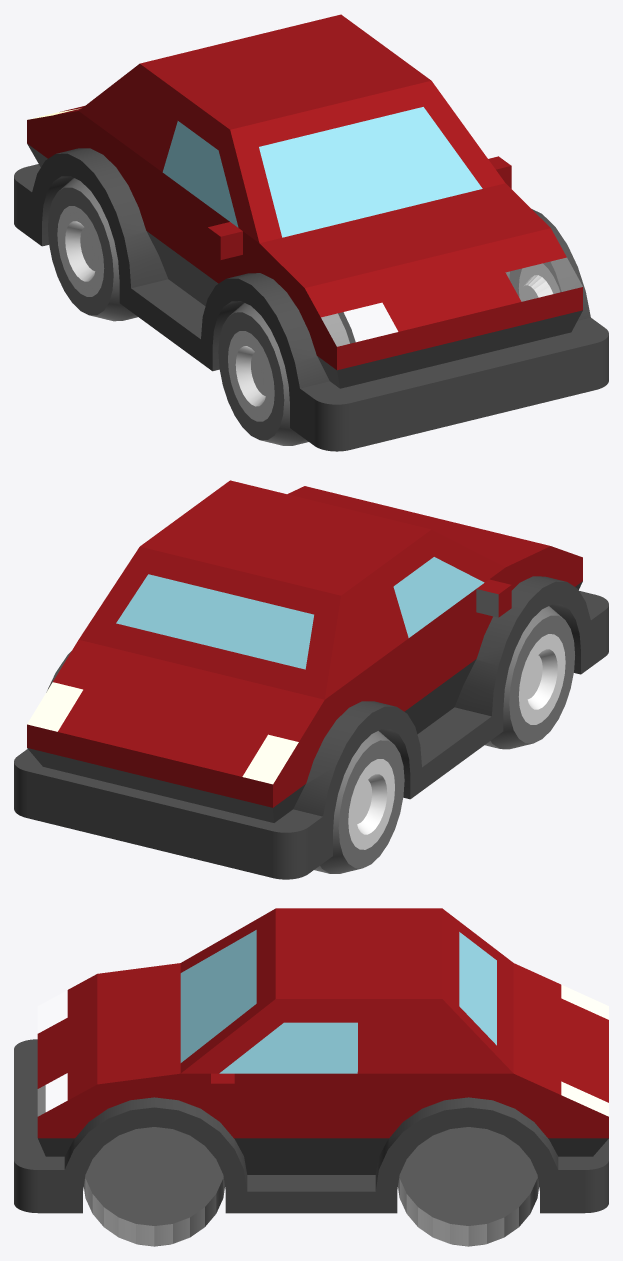
3 renders of one model, top to bottom at view 1: azimuth 30°, elevation 25°; view 2: azimuth 150°, elevation 25°; view 3: azimuth 270°, elevation 25°, orthographic. The views are drawn at different scales.
Visible parts, largest first — view 1: body.008, wheel_frontRight.008, wheel_backRight.008, wheel_frontLeft.008; view 2: body.008, wheel_frontRight.008, wheel_backRight.008; view 3: body.008, wheel_backLeft.008, wheel_frontLeft.008.
Part boxes in pixels (<box>): body.008: <box>14,14,608,451</box>; wheel_frontRight.008: <box>218,303,349,445</box>; wheel_backRight.008: <box>48,178,137,321</box>; wheel_frontLeft.008: <box>505,261,561,301</box>; body.008: <box>14,480,608,879</box>; wheel_frontRight.008: <box>485,606,574,749</box>; wheel_backRight.008: <box>314,731,404,873</box>; body.008: <box>14,908,608,1213</box>; wheel_backLeft.008: <box>398,1127,539,1246</box>; wheel_frontLeft.008: <box>83,1127,224,1246</box>.
Size of the model in its own units: 1.3 by 1.1 by 2.5.
